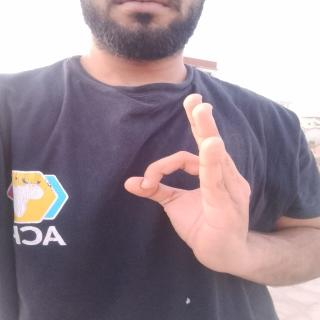Space: (119, 90, 257, 278)
